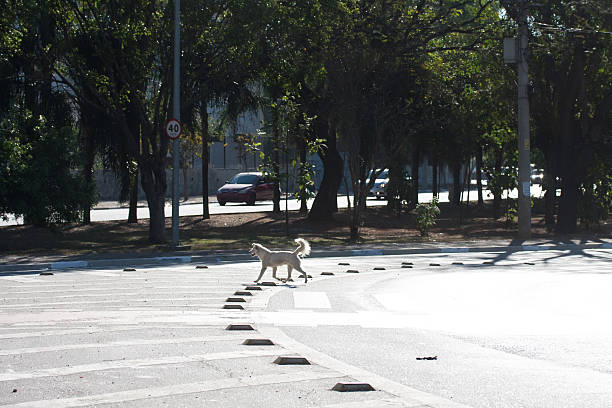kopek: (235, 236, 318, 295)
